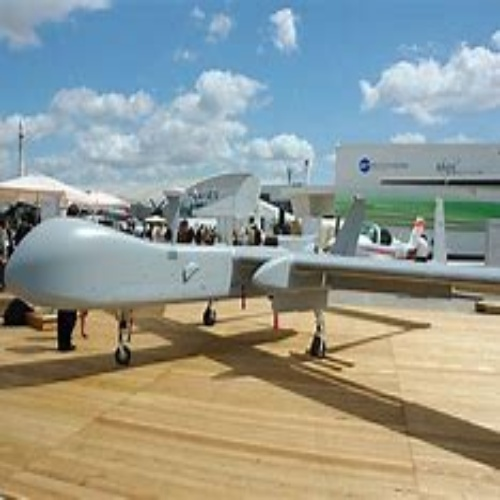uav: (4, 194, 498, 355)
